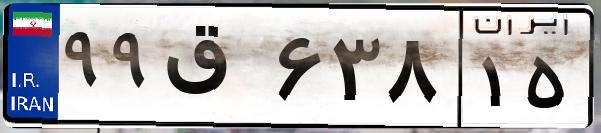1: (475, 38, 525, 113)
3: (330, 28, 385, 110)
5: (525, 38, 570, 115)
6: (270, 28, 330, 110)
8: (385, 28, 445, 110)
9: (57, 26, 110, 100), (110, 28, 158, 98)
ق: (158, 20, 270, 120)
